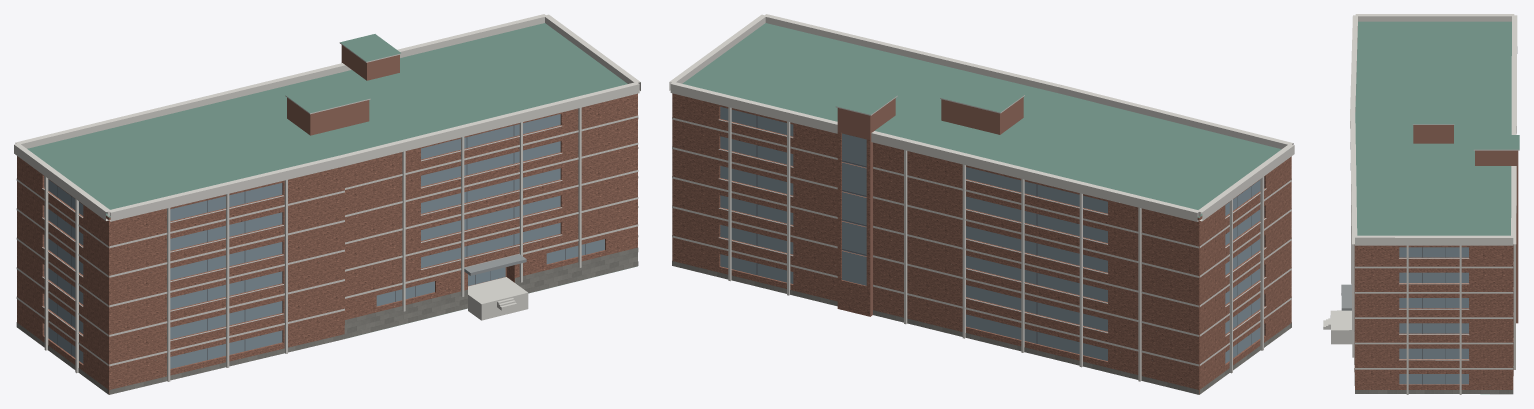
3 renders of one model, left to right at view 1: azimuth 30°, elevation 25°; view 2: azimuth 150°, elevation 25°; view 3: azimuth 270°, elevation 25°, orthographic. The views are drawn at different scales.
Parts seen in each view (by area): view 1: hum3__wall, hum3__roof, hum3__trim, hum3__glass, hum3__base, hum3__wall2, hum3__entranceStair, hum3__frame, hum3__canopy; view 2: hum3__wall, hum3__roof, hum3__trim, hum3__glass, hum3__wall2, hum3__base, hum3__frame; view 3: hum3__roof, hum3__wall, hum3__trim, hum3__glass, hum3__wall2, hum3__entranceStair, hum3__base, hum3__canopy.
Part boxes in pixels (left/top/right/bottom): hum3__wall: left=17, top=93, right=637, bottom=394; hum3__roof: left=27, top=23, right=637, bottom=338; hum3__trim: left=14, top=14, right=640, bottom=381; hum3__glass: left=44, top=114, right=604, bottom=368; hum3__base: left=16, top=247, right=638, bottom=394; hum3__wall2: left=287, top=45, right=399, bottom=135; hum3__entranceStair: left=468, top=277, right=528, bottom=320; hum3__frame: left=57, top=125, right=585, bottom=360; hum3__canopy: left=464, top=254, right=526, bottom=275; hum3__wall: left=672, top=93, right=1291, bottom=394; hum3__roof: left=682, top=23, right=1281, bottom=394; hum3__trim: left=669, top=14, right=1294, bottom=381; hum3__glass: left=720, top=107, right=1264, bottom=363; hum3__wall2: left=837, top=97, right=1023, bottom=316; hum3__base: left=672, top=261, right=1291, bottom=394; hum3__frame: left=756, top=116, right=1251, bottom=354; hum3__roof: left=1355, top=21, right=1519, bottom=394; hum3__wall: left=1354, top=244, right=1513, bottom=389; hum3__trim: left=1350, top=14, right=1519, bottom=394; hum3__glass: left=1399, top=247, right=1468, bottom=384; hum3__wall2: left=1413, top=125, right=1518, bottom=323; hum3__entranceStair: left=1323, top=310, right=1352, bottom=344; hum3__base: left=1354, top=358, right=1513, bottom=394; hum3__canopy: left=1341, top=284, right=1351, bottom=310.
Bounding box in the file's own units: 68.2 × 25.05 × 25.25.
Materials: 10 (2 with a texture image).
